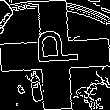P_W: (29, 35, 81, 75)
